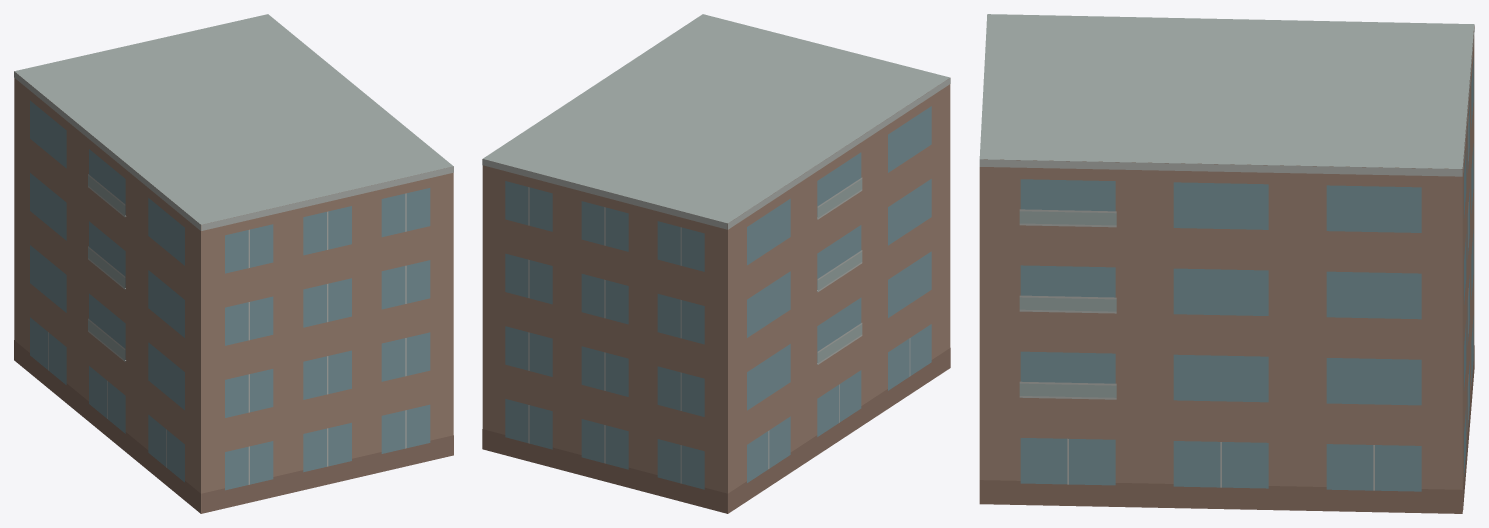
Rendered from survey-upis-32653413.glb.
3 views of the same model, side by side, from view 1: azimuth 30°, elevation 25°; view 2: azimuth 150°, elevation 25°; view 3: azimuth 270°, elevation 25° (orthographic). The views are drawn at different scales.
Visible parts, largest first — view 1: survey-upis-32653413.tmp; view 2: survey-upis-32653413.tmp; view 3: survey-upis-32653413.tmp.
Boxes of the visible parts, x1,y1,x2,y2 form: survey-upis-32653413.tmp: [14, 14, 453, 513]; survey-upis-32653413.tmp: [482, 14, 950, 513]; survey-upis-32653413.tmp: [979, 14, 1474, 513].
Size of the model in its own units: 10.71 by 11.1 by 14.45.
